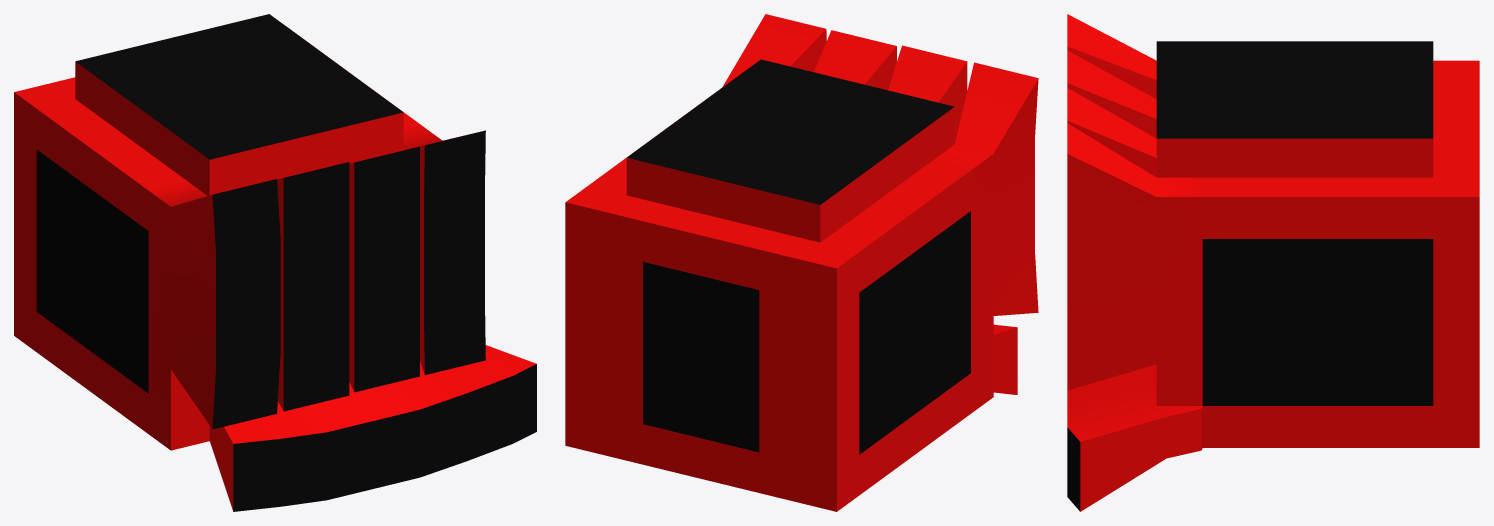
The model's file is fist_R.obj.
3 views of the same model, side by side, from view 1: azimuth 30°, elevation 25°; view 2: azimuth 150°, elevation 25°; view 3: azimuth 270°, elevation 25° (orthographic). The views are drawn at different scales.
Visible parts, largest first — view 1: pCube1; view 2: pCube1; view 3: pCube1.
Part boxes in pixels (bbox=[...]): pCube1: bbox=[14, 14, 536, 511]; pCube1: bbox=[565, 14, 1038, 511]; pCube1: bbox=[1067, 14, 1479, 511].
Size of the model in its own units: 1.31 by 1.26 by 1.37.
